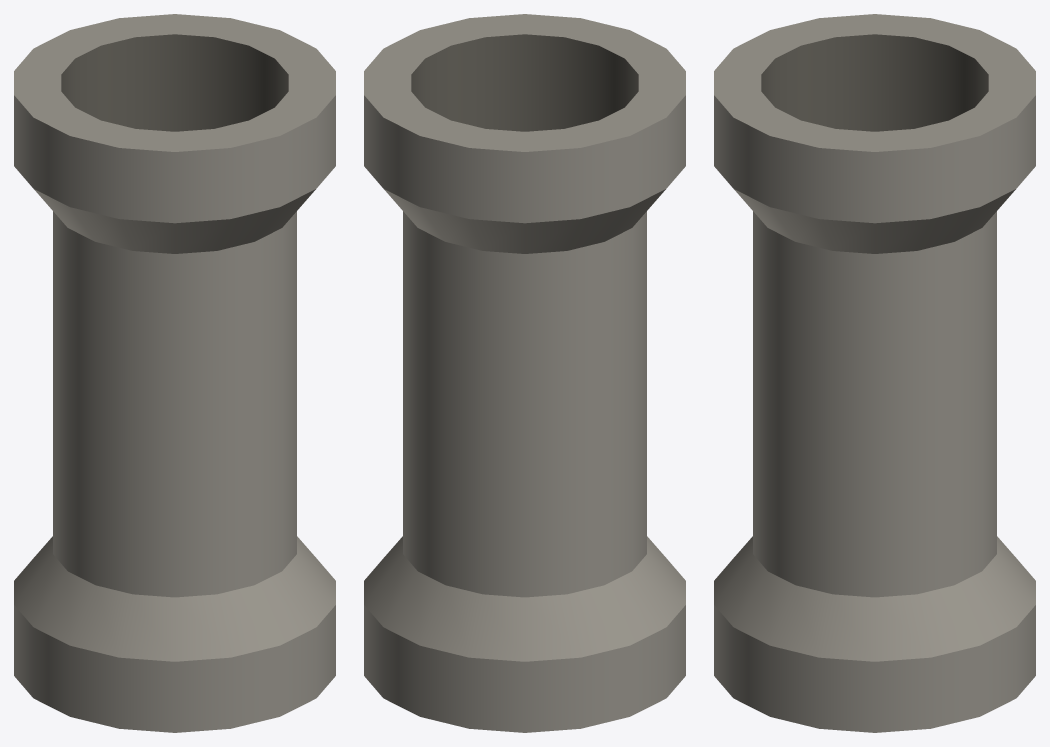
Rendered from pipe.FBX.
3 views of the same model, side by side, from view 1: azimuth 30°, elevation 25°; view 2: azimuth 150°, elevation 25°; view 3: azimuth 270°, elevation 25° (orthographic).
Visible parts, largest first — view 1: Cylinder004; view 2: Cylinder004; view 3: Cylinder004.
Part boxes in pixels (<box>): Cylinder004: <box>14,14,335,732</box>; Cylinder004: <box>364,14,685,732</box>; Cylinder004: <box>714,14,1035,732</box>.
Size of the model in its own units: 192 by 377 by 189.
